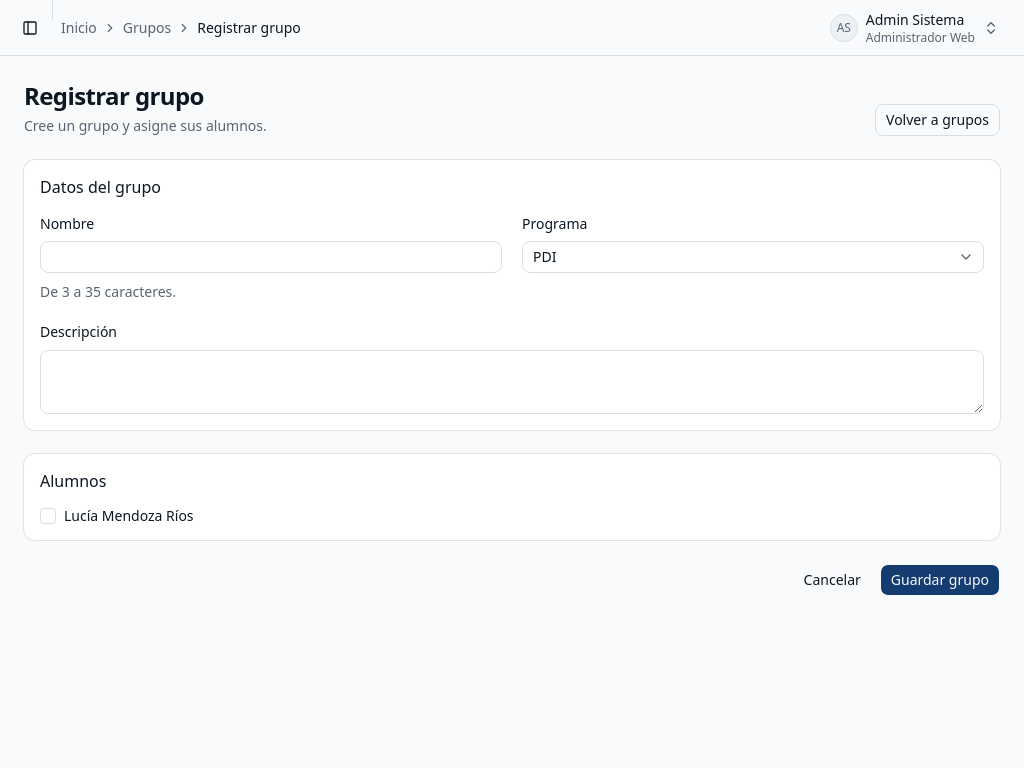
Scenario: Formulario de grupo › CA-GRU-02 si la respuesta no trae el id del grupo se vuelve a la lista
Type "Grupo 7" into the field labelled "Nombre" at [271, 257], box [40, 241, 502, 273]
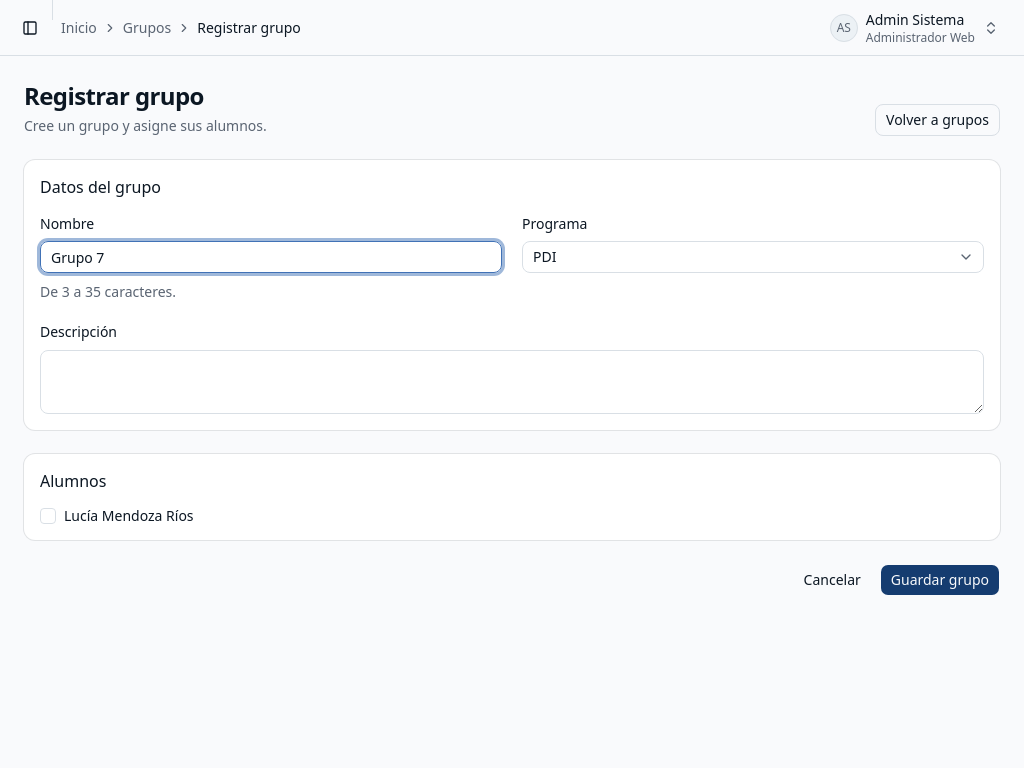
Click the button "Guardar grupo" at [940, 580], box [880, 564, 1000, 596]
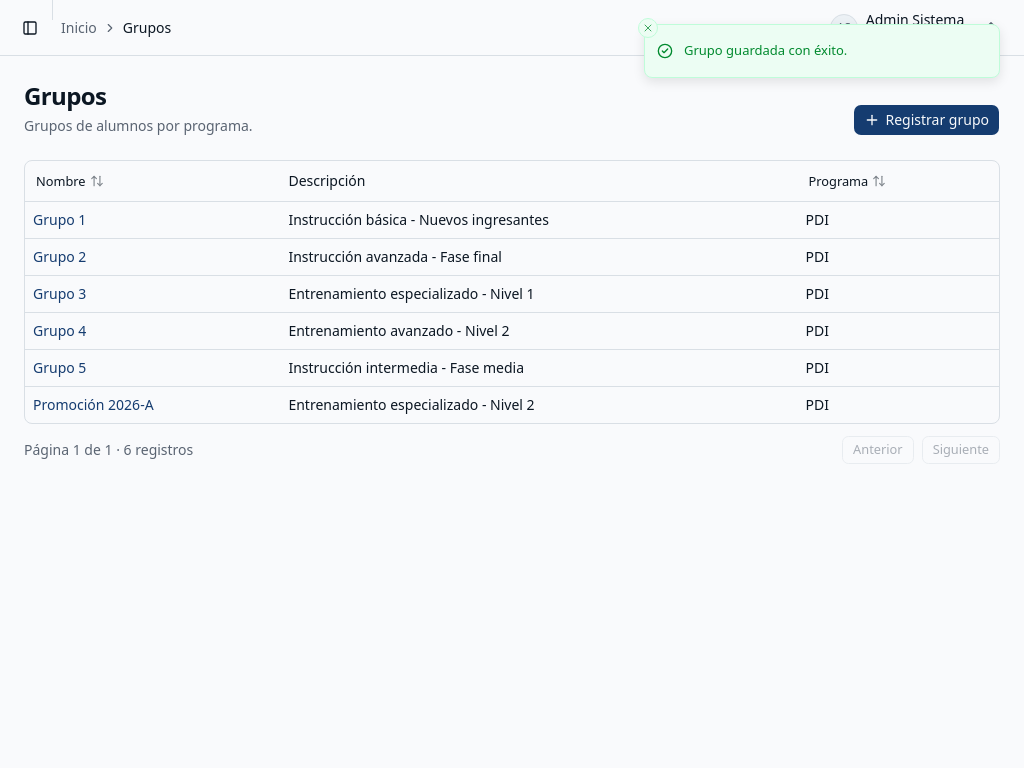
Check: the text "Grupo guardada con éxito." is shown, box [684, 41, 847, 60]
Check: the table named "Grupos registrados" is shown, box [25, 161, 999, 422]
